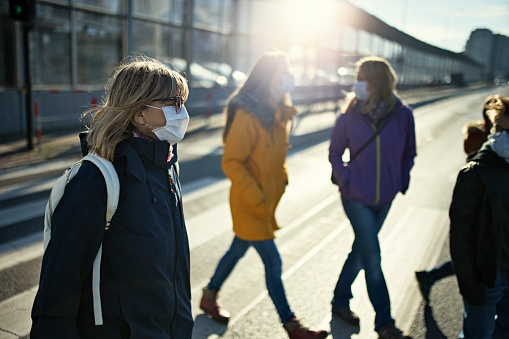person: (22, 52, 204, 339), (197, 48, 335, 339), (325, 53, 424, 339), (447, 92, 509, 339)
